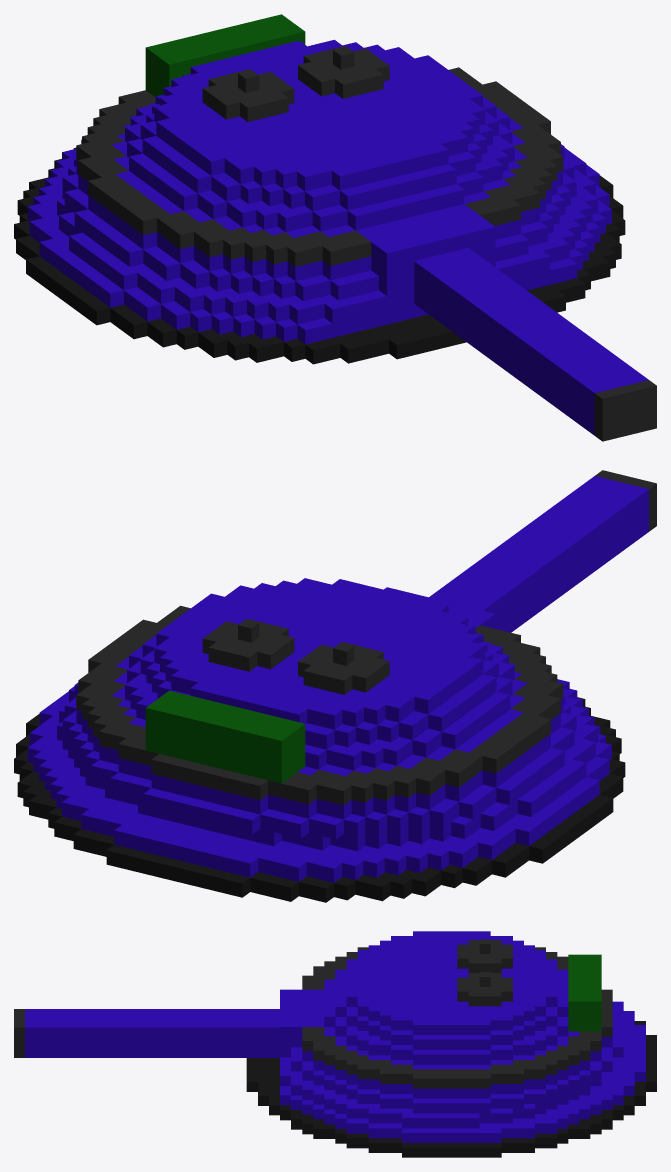
Rendered from modelobj-1.obj.
3 views of the same model, one above another, from view 1: azimuth 30°, elevation 25°; view 2: azimuth 150°, elevation 25°; view 3: azimuth 270°, elevation 25° (orthographic). The views are drawn at different scales.
Parts seen in each view (by area): view 1: modelobj-1; view 2: modelobj-1; view 3: modelobj-1.
Part boxes in pixels (x1,y1,x2,y2): modelobj-1: (14, 14, 656, 441); modelobj-1: (14, 470, 656, 902); modelobj-1: (14, 931, 656, 1157).
Bounding box in the file's own units: 38 × 11 × 58.
Materials: 1 (1 with a texture image).
